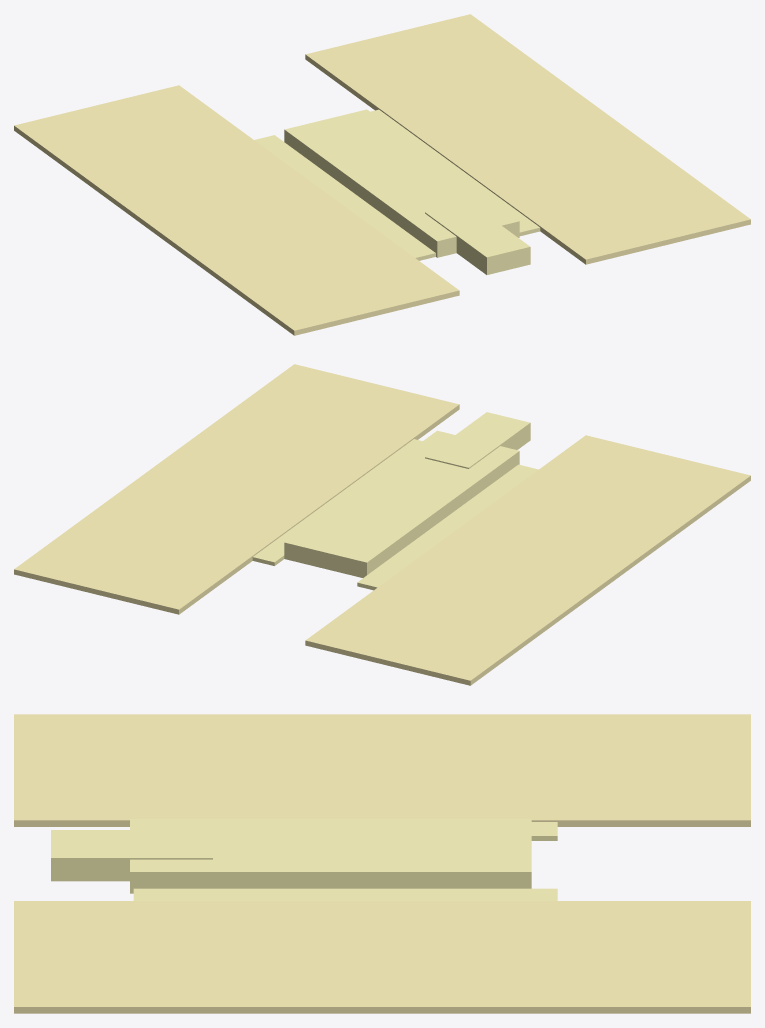
The model's file is road_separator_island_taper.glb.
The picture shows the model from 3 angles, top to bottom: view 1: azimuth 30°, elevation 25°; view 2: azimuth 150°, elevation 25°; view 3: azimuth 270°, elevation 25°; orthographic projection. The views are drawn at different scales.
Parts seen in each view (by area): view 1: lane_left, lane_right, separator_island, separator_nose, apron_left, apron_right; view 2: lane_left, lane_right, separator_island, apron_left, separator_nose, apron_right; view 3: lane_right, lane_left, separator_island, separator_nose, apron_right, apron_left.
Boxes of the visible parts, x1=… form: lane_left: x1=14, y1=85, x2=459, y2=335; lane_right: x1=305, y1=14, x2=750, y2=264; separator_island: x1=284, y1=109, x2=519, y2=257; separator_nose: x1=425, y1=201, x2=530, y2=274; apron_left: x1=254, y1=135, x2=435, y2=260; apron_right: x1=370, y1=109, x2=540, y2=236; lane_left: x1=305, y1=435, x2=750, y2=685; lane_right: x1=14, y1=364, x2=459, y2=614; separator_island: x1=284, y1=430, x2=519, y2=577; apron_left: x1=357, y1=464, x2=538, y2=590; separator_nose: x1=425, y1=412, x2=530, y2=468; apron_right: x1=252, y1=439, x2=422, y2=565; lane_right: x1=14, y1=901, x2=750, y2=1013; lane_left: x1=14, y1=714, x2=750, y2=826; separator_island: x1=130, y1=819, x2=531, y2=893; separator_nose: x1=51, y1=830, x2=212, y2=881; apron_right: x1=133, y1=888, x2=557, y2=900; apron_left: x1=531, y1=822, x2=557, y2=840.
Size of the model in its own units: 3.76 by 0.14 by 4.
